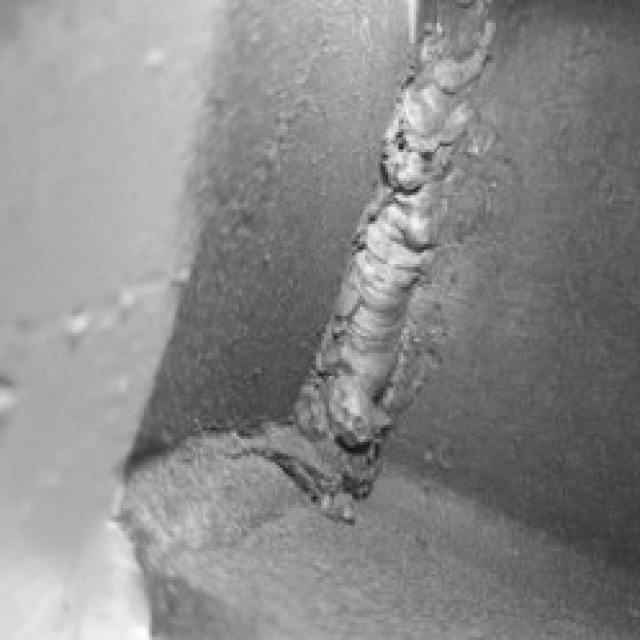Bad Welding: (314, 8, 486, 490), (123, 419, 378, 551)
